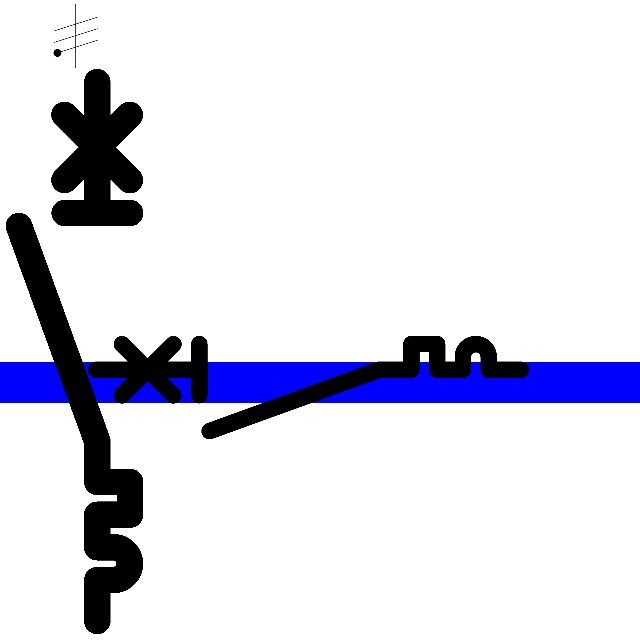interruptor_termomagnetico: (5, 68, 144, 635), (85, 333, 532, 442)
